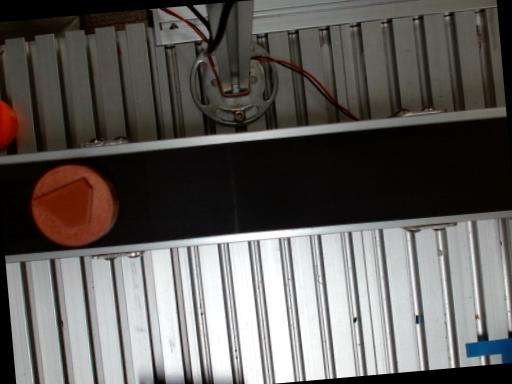Brown_Waper: (31, 165, 118, 246)
Not_Square: (32, 177, 91, 229)
